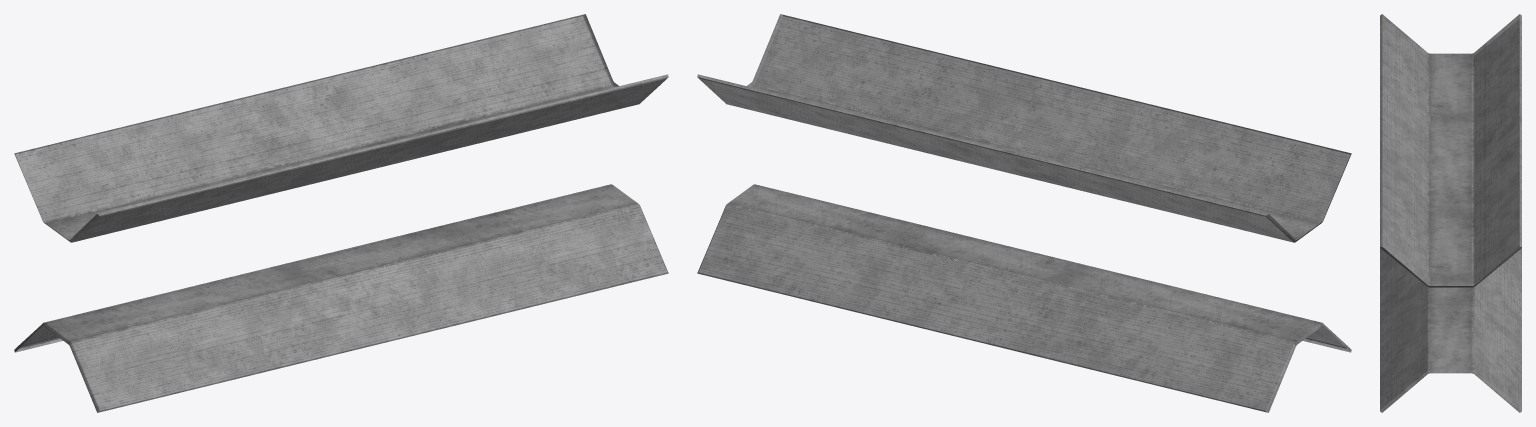
The model's file is SM_Opening_01.fbx.
The picture shows the model from 3 angles, left to right: view 1: azimuth 30°, elevation 25°; view 2: azimuth 150°, elevation 25°; view 3: azimuth 270°, elevation 25°; orthographic projection. The views are drawn at different scales.
Parts seen in each view (by area): view 1: SM_Opening_01; view 2: SM_Opening_01; view 3: SM_Opening_01.
Part boxes in pixels (x1=…): SM_Opening_01: x1=14, y1=14, x2=668, y2=412; SM_Opening_01: x1=697, y1=14, x2=1351, y2=412; SM_Opening_01: x1=1380, y1=14, x2=1521, y2=412.
Bounding box in the file's own units: 400 × 134 × 103.
